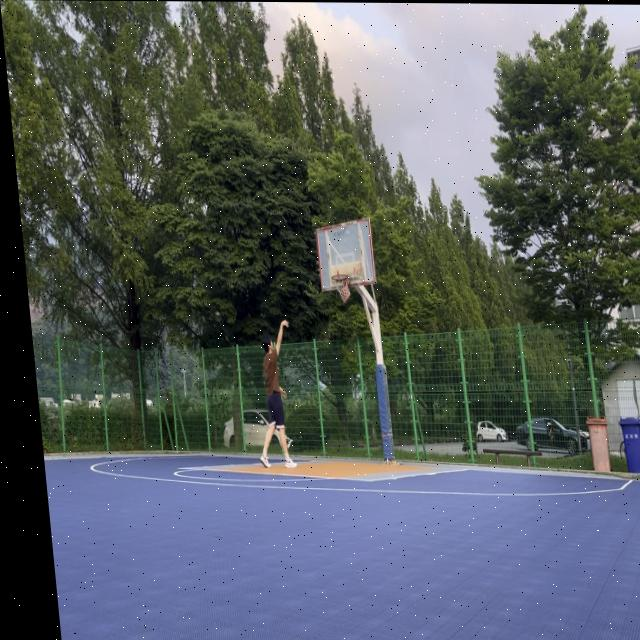basketball: (340, 287, 351, 304)
hoop: (331, 274, 353, 304), (330, 274, 352, 304)
